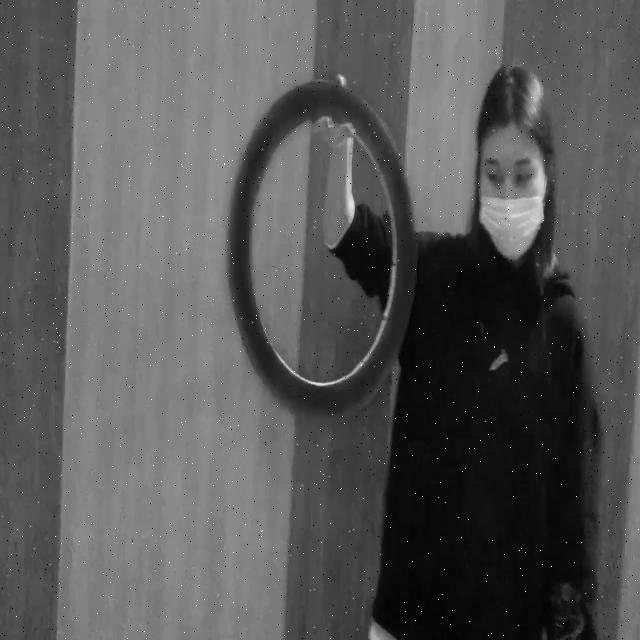Circle: (224, 73, 423, 433)
